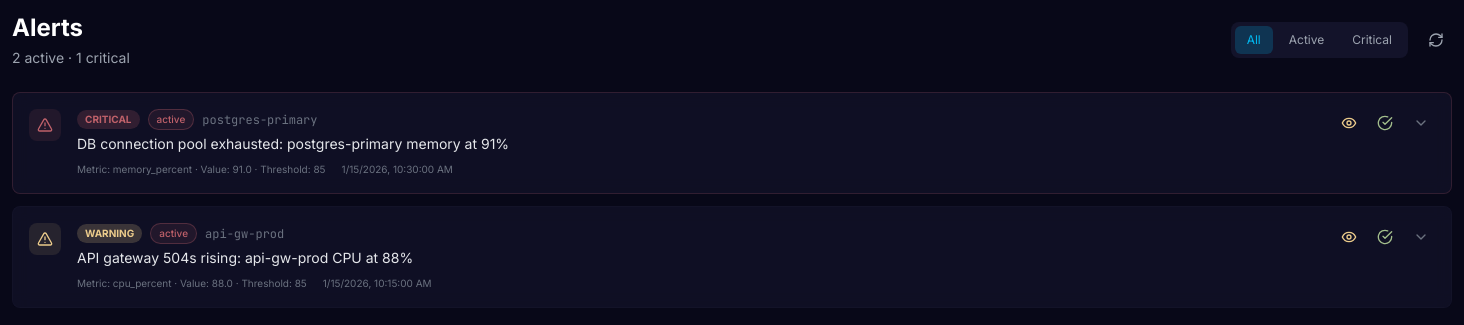
Test case: AlertPanel › filtering › filters to critical only when Critical filter is clicked
The width and height of the screenshot is (1464, 325).
Click the button "Critical".
click(1372, 40)  # box [1340, 26, 1404, 54]
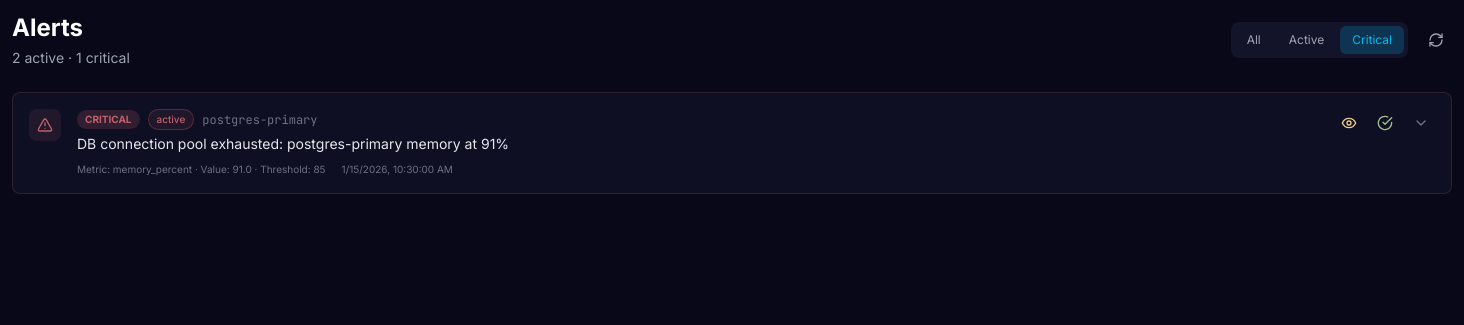
Expected: the text "DB connection pool exhausted: postgres-primary memory at 91%" is shown, [77, 135, 509, 152]
Result: the text "API gateway 504s rising" is gone
